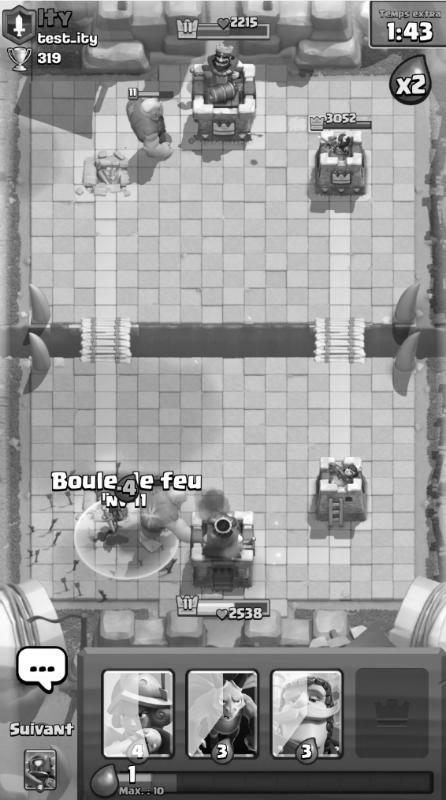geant: (136, 476, 191, 553), (125, 87, 175, 162)
mini_PEKKA: (101, 492, 129, 520)
